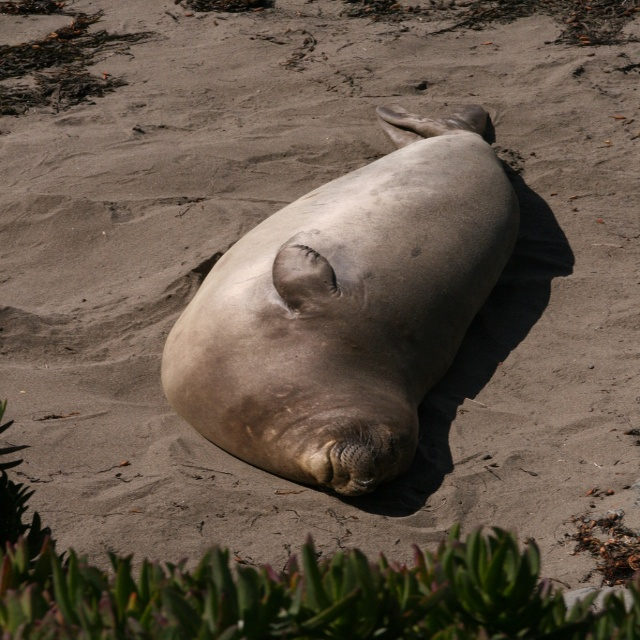Harbor seal: (155, 95, 528, 498)
